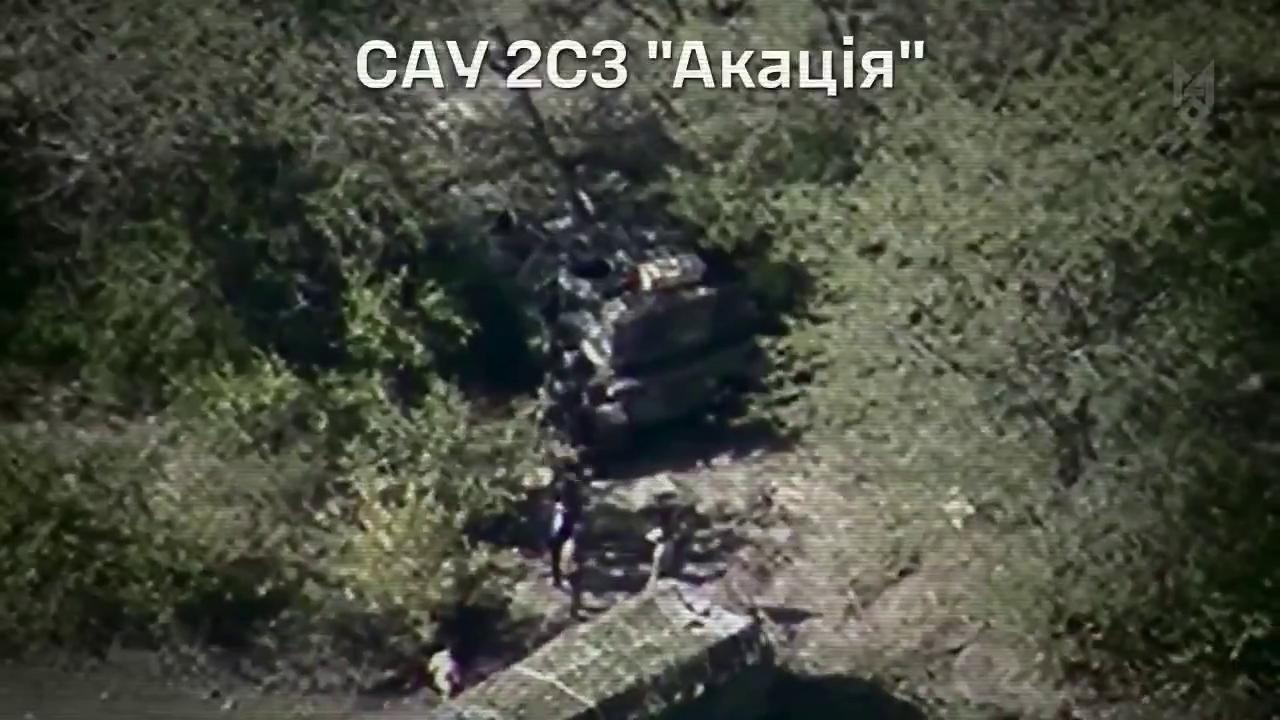tank: (480, 23, 781, 475), (436, 575, 769, 720)
